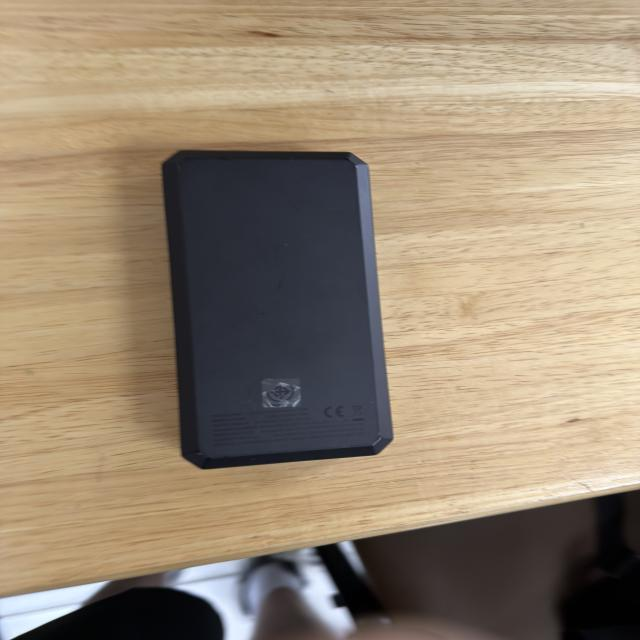power bank: (152, 144, 402, 470)
